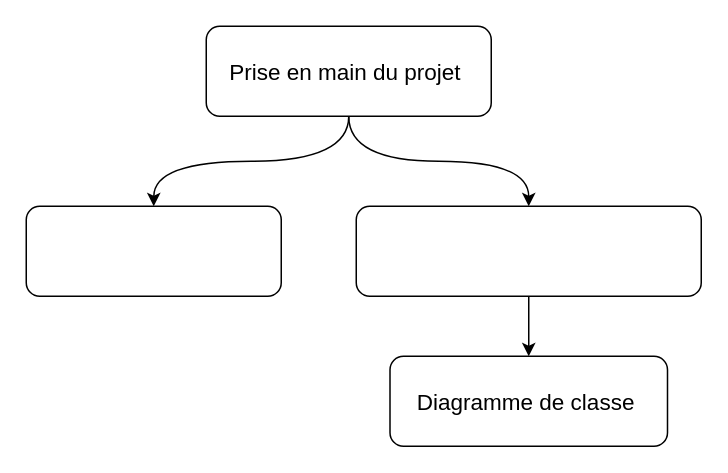
Some shapes in this 728 by 473 pixel diagram are drawn without their labels. Here are the shapes that lost their labels. From the top down, the centre of each, then its label:
the point at 153,250: Cahier de charges
the point at 528,250: Diagramme de cas d'utilisation
